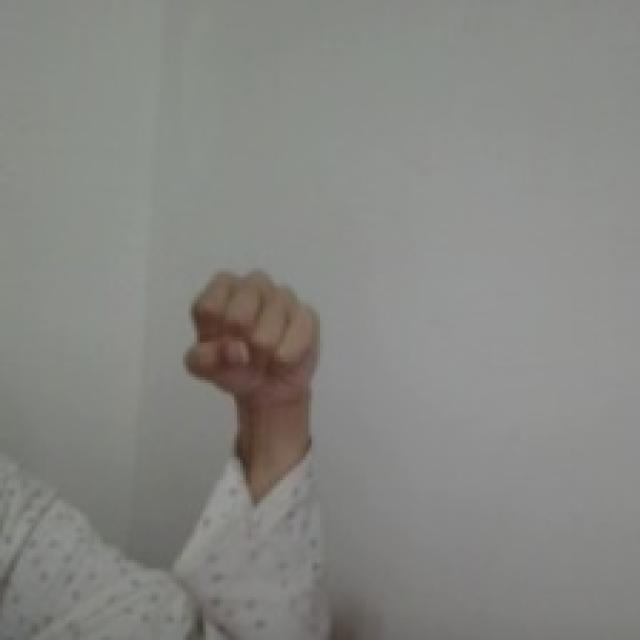yes: (180, 262, 326, 412)
